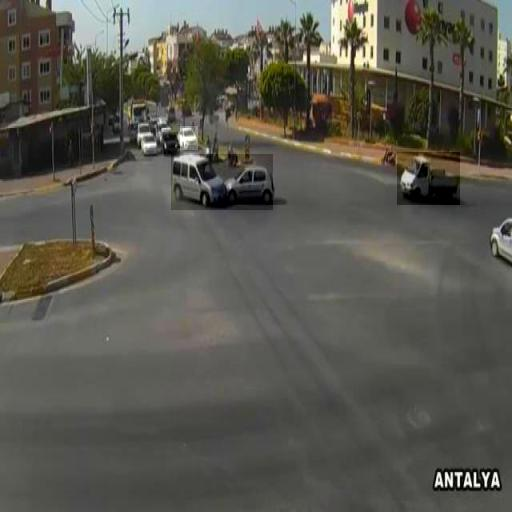小汽车: (397, 152, 460, 205), (180, 126, 198, 150), (141, 132, 158, 154), (163, 132, 180, 154)
小汽车撞小汽车: (171, 154, 273, 210)
